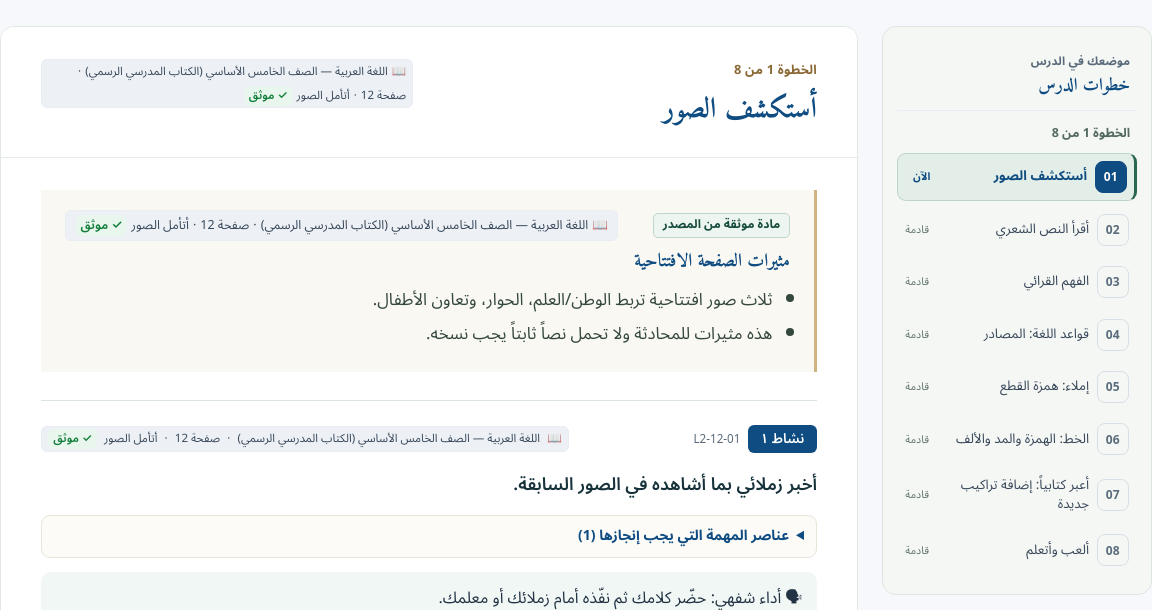
Test: Lesson 2 presentation pilot › keeps the ordered navigation, reports position rather than completion, and saves the selected step
Click the button with aria-label "الخطوة 4:" at (1017, 334), box top-left (897, 310), bottom-right (1137, 358)
(page scrolled)
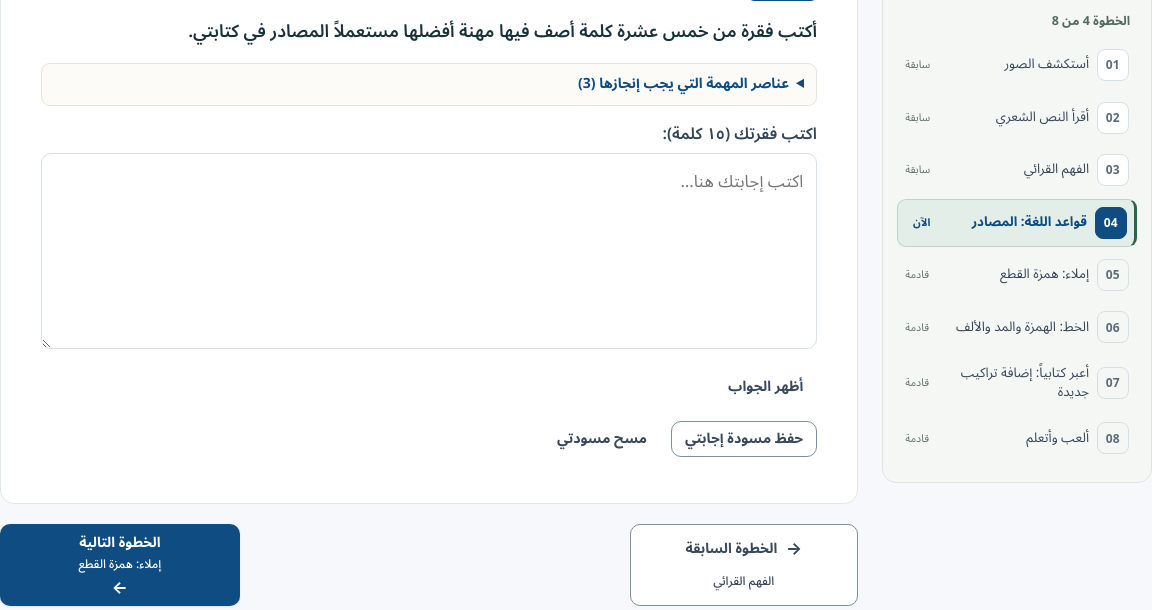
Expected: the number of list items with class "is-earlier" is 3, top-left (897, 41), bottom-right (1137, 89); top-left (897, 94), bottom-right (1137, 142); top-left (897, 146), bottom-right (1137, 194)
Now the button with aria-label "الانتقال إلى الخطوة 5" shows "إملاء: همزة القطع", box top-left (0, 524), bottom-right (240, 606)
